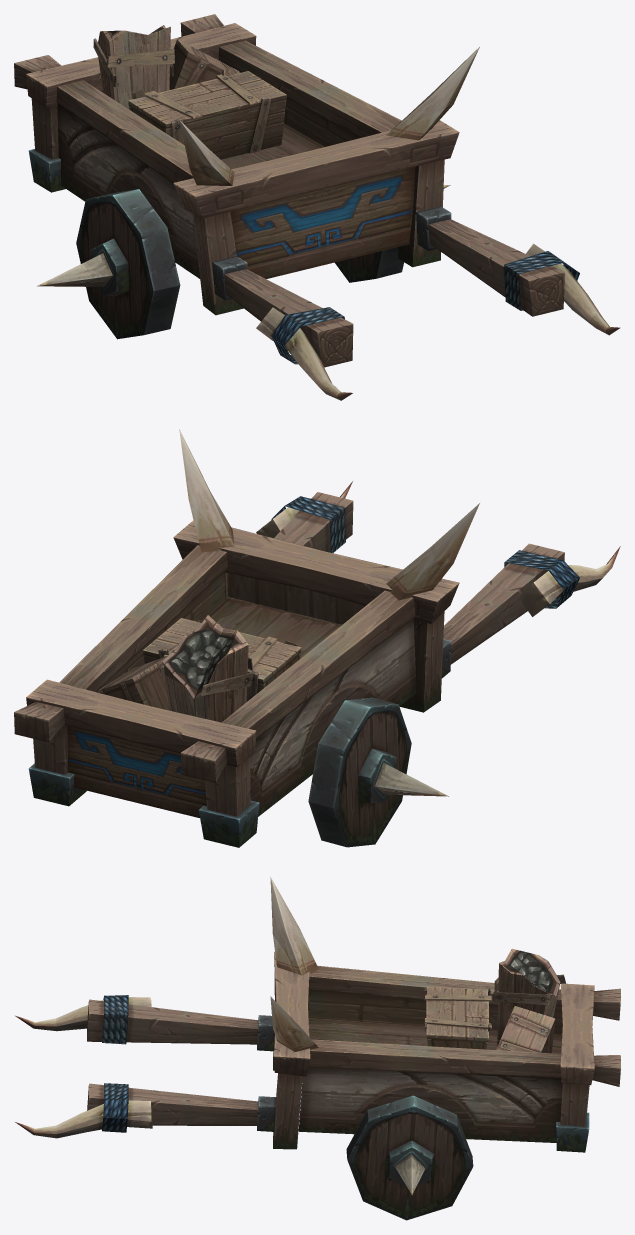
Rendered from fb_lyhg_zj_15_a.FBX.
3 views of the same model, one above another, from view 1: azimuth 30°, elevation 25°; view 2: azimuth 150°, elevation 25°; view 3: azimuth 270°, elevation 25° (orthographic). The views are drawn at different scales.
Visible parts, largest first — view 1: fb_lyhg_zj_15_a; view 2: fb_lyhg_zj_15_a; view 3: fb_lyhg_zj_15_a.
Boxes of the visible parts, x1=… form: fb_lyhg_zj_15_a: x1=14, y1=14, x2=620, y2=400; fb_lyhg_zj_15_a: x1=14, y1=429, x2=620, y2=847; fb_lyhg_zj_15_a: x1=15, y1=877, x2=620, y2=1220.
Bounding box in the file's own units: 240 × 158 × 374.
